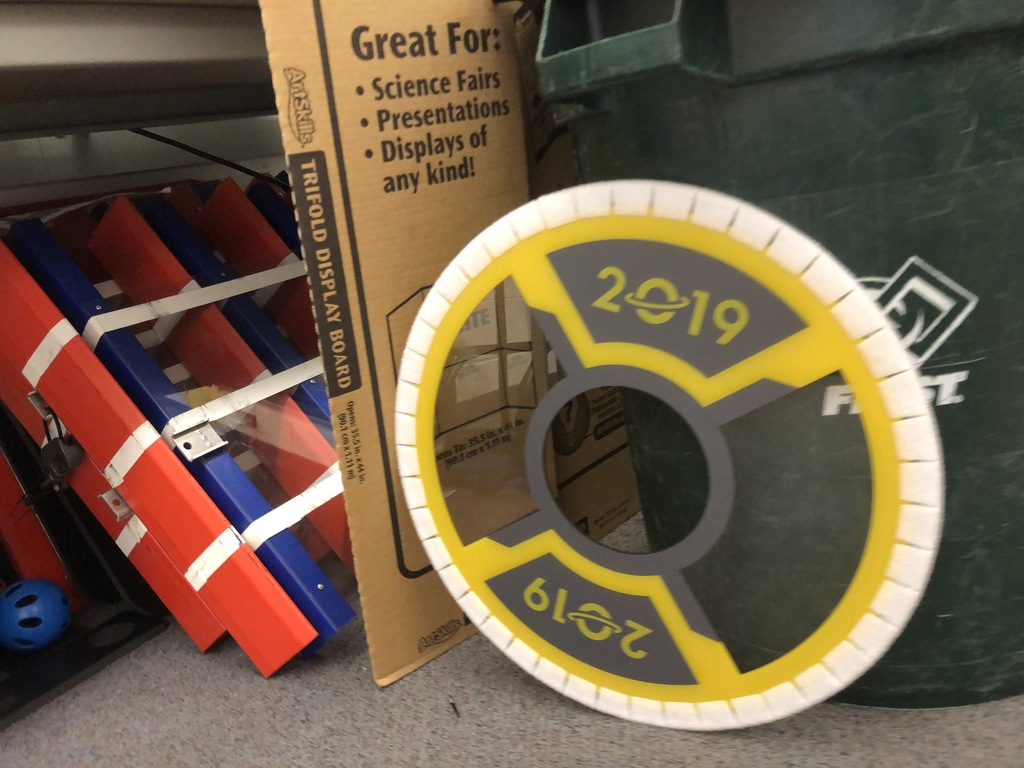hatch_panel: (377, 160, 960, 748)
